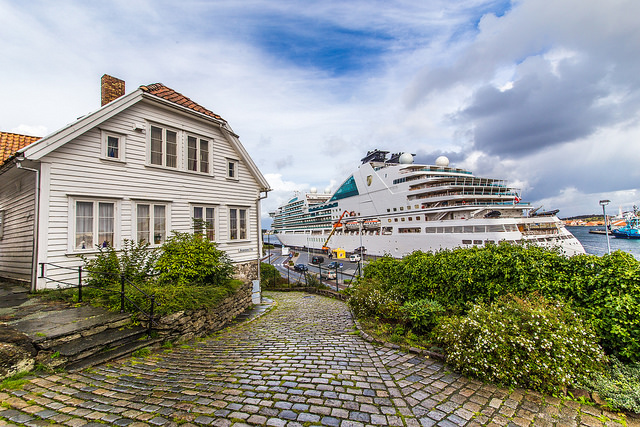cruise_ship: (272, 149, 598, 252)
